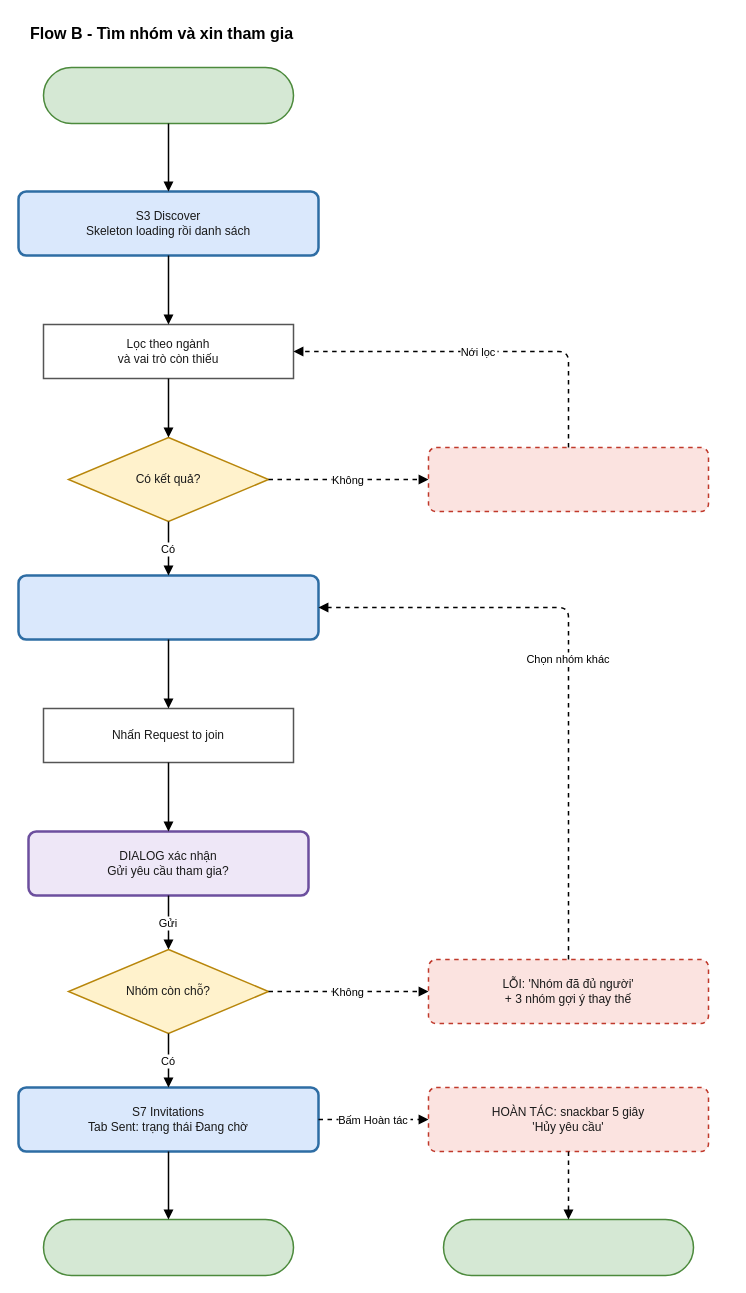
This 746x1293 diagram has some shape labels left out. The shapes that lost their labels are listed below. From the top down, each one's centre as x and y in pixels, then its label:
At (168,95): "START Cần tìm nhóm hợp vai trò".
At (568,479): "TRỐNG: empty state + nút 'Nới bộ lọc'".
At (168,607): "S4 Team detail Ý tưởng, thành viên, slot trống".
At (168,1247): "GOAL / END Yêu cầu đã gửi".
At (568,1247): "END (nhánh hoàn tác) Yêu cầu bị hủy, về S4".
